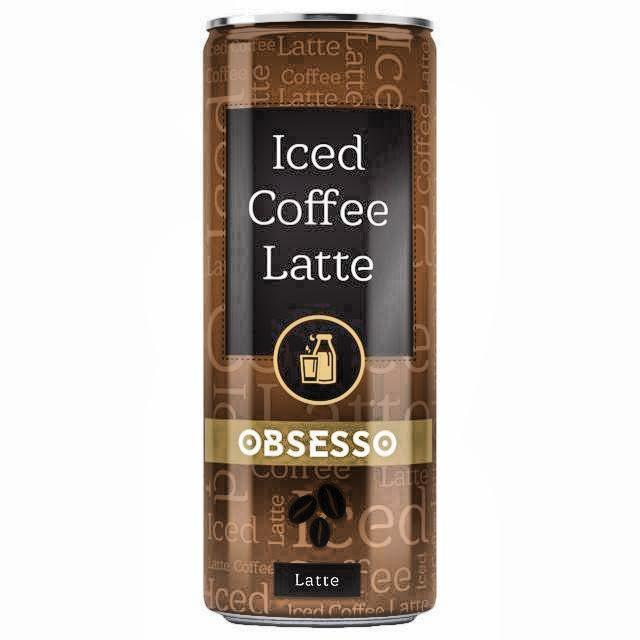metal: (202, 17, 439, 630)
